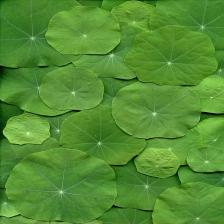green: (0, 1, 224, 224)
